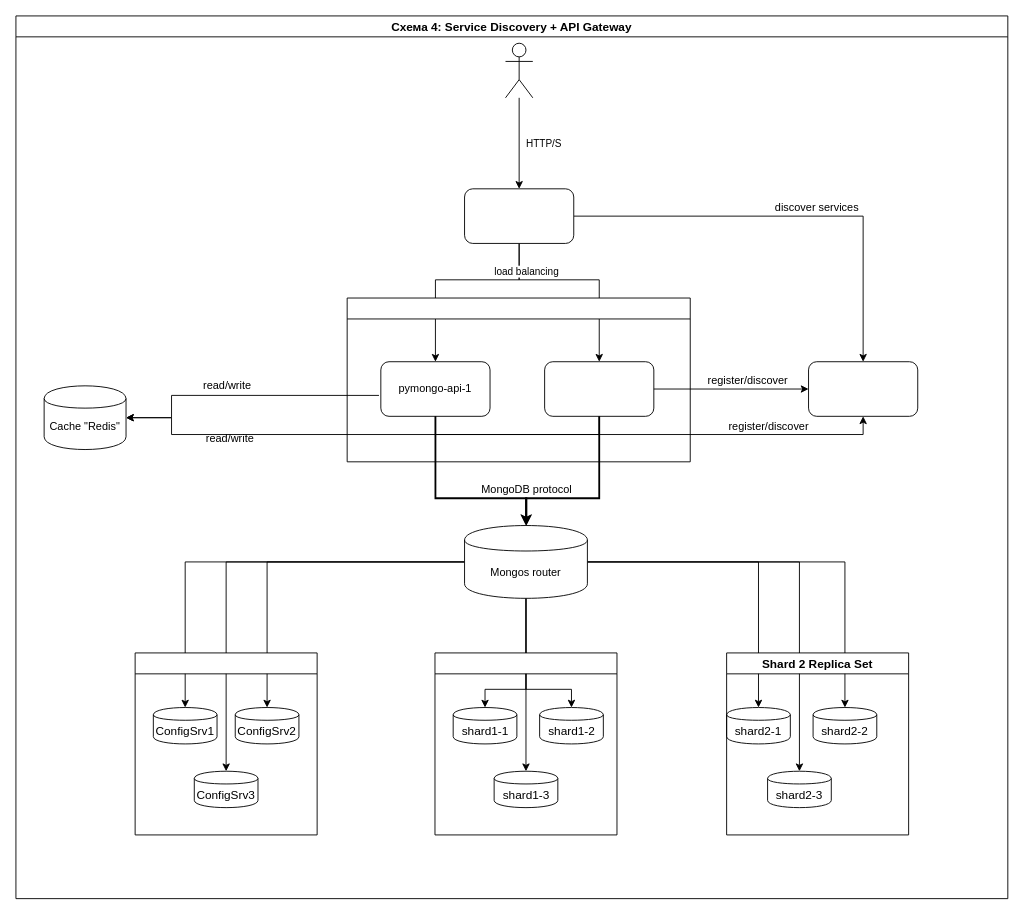
This 1024x915 diagram has some shape labels left out. The box of each missing label's shape, as (x1, y1, x2, y2) in pixels:
API Gateway (nginx): (464, 188, 574, 243)
Application instances: (346, 297, 690, 462)
Client: (505, 42, 533, 98)
Config Server Repica Set: (134, 652, 317, 835)
Consul (Service Discovery): (808, 361, 918, 416)
pymongo-api-2: (544, 361, 654, 416)
Shard 1 Replica Set: (434, 652, 617, 835)
